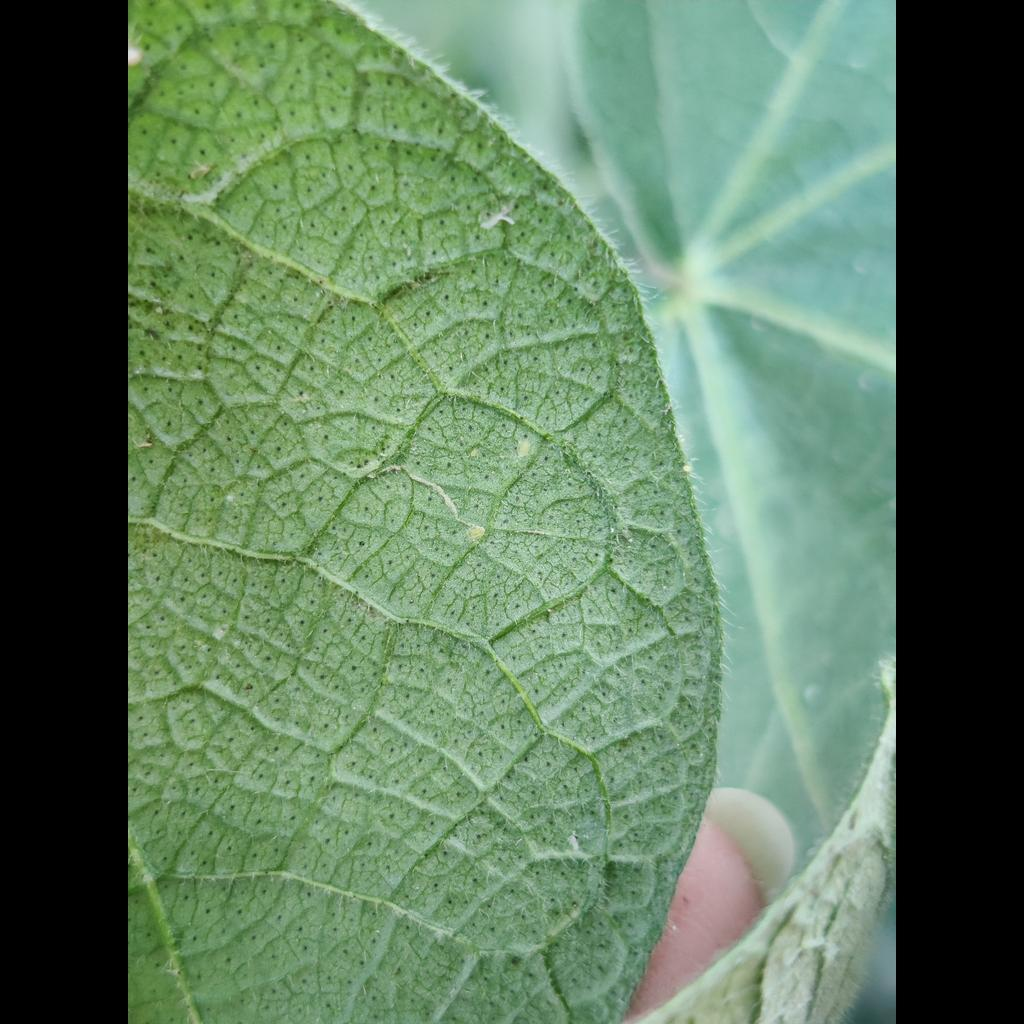nymph: (188, 166, 210, 181), (128, 47, 143, 68), (468, 525, 486, 540), (516, 442, 531, 457), (471, 447, 479, 456)
